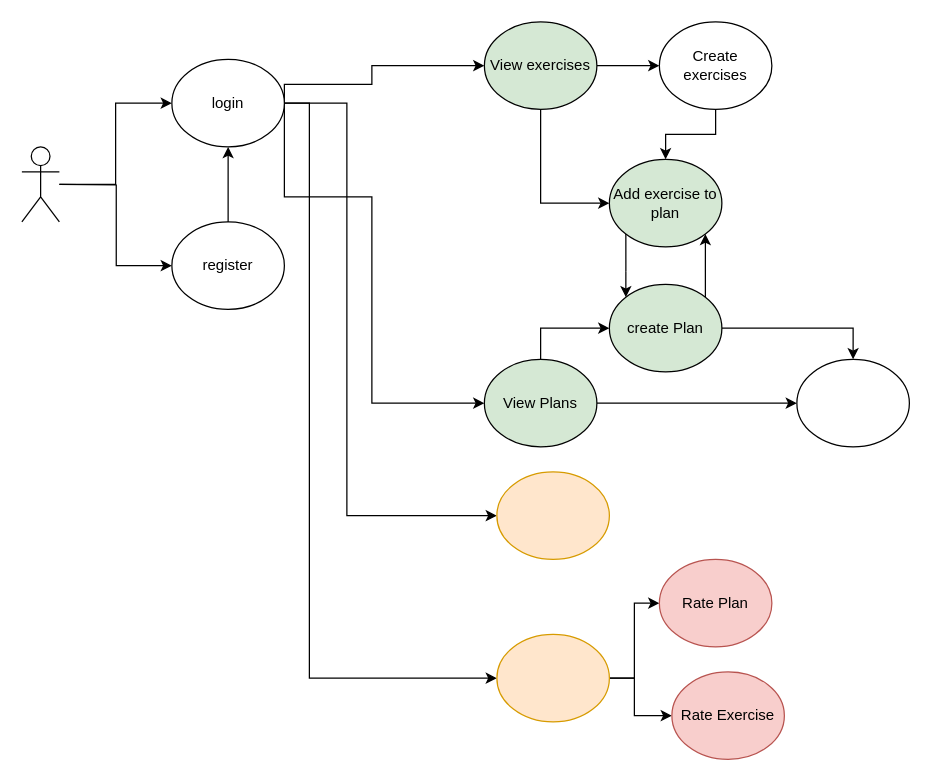
Image size: 931x781. Some labels were removed from this diagram. The box of each missing label's shape, as (x1, y1, x2, y2) in pixels:
add plan to Week: (796, 358, 909, 447)
Can view workout history: (496, 471, 609, 559)
Execute Plan: (496, 633, 609, 722)
User: (21, 146, 59, 222)
